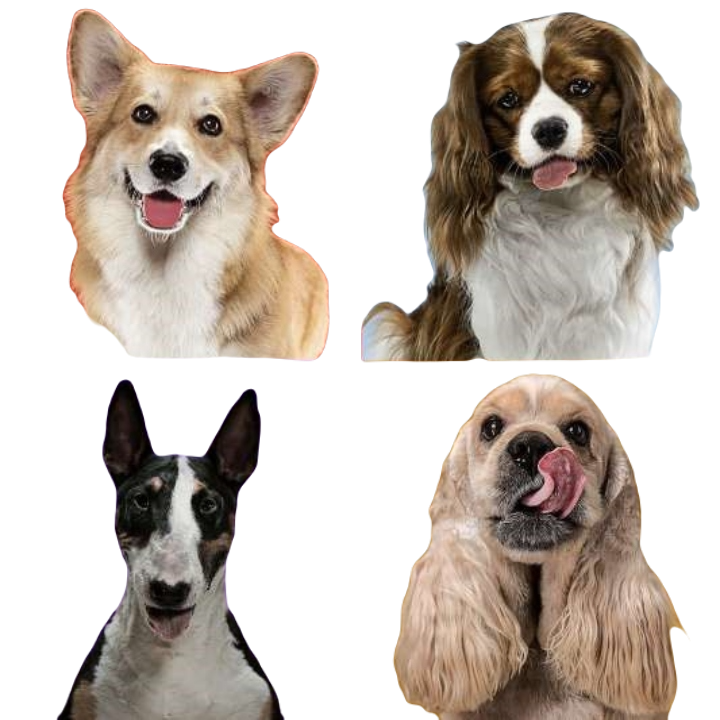Dog: (361, 11, 702, 361), (383, 378, 685, 719), (54, 10, 330, 362), (44, 378, 286, 719)
